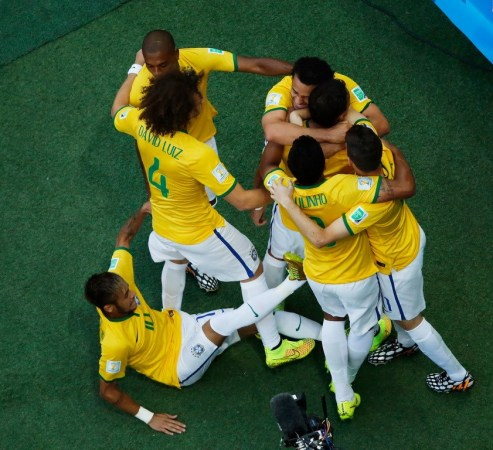fall: (76, 200, 318, 441)
